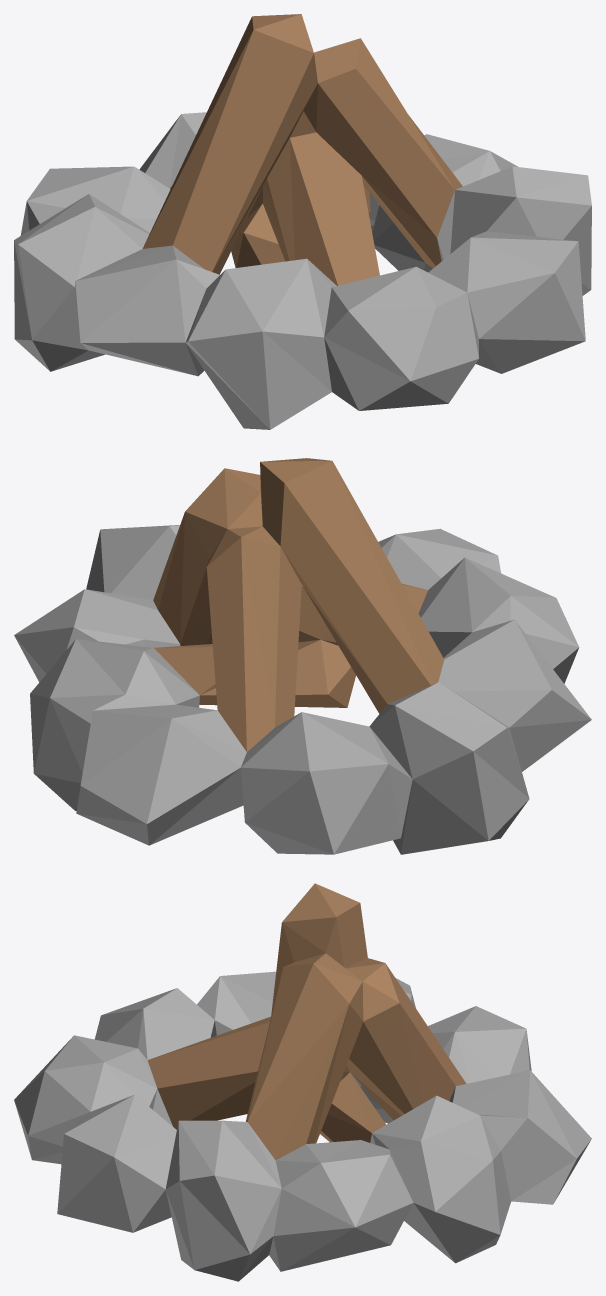
File: Campfire(Pickup).fbx
3 views of the same model, one above another, from view 1: azimuth 30°, elevation 25°; view 2: azimuth 150°, elevation 25°; view 3: azimuth 270°, elevation 25° (orthographic). The views are drawn at different scales.
Parts seen in each view (by area): view 1: Campfire; view 2: Campfire; view 3: Campfire.
Boxes of the visible parts, bbox=[...] form: Campfire: bbox=[14, 14, 591, 429]; Campfire: bbox=[14, 458, 591, 854]; Campfire: bbox=[14, 883, 591, 1281].
Bounding box in the file's own units: 46.62 × 28.33 × 49.44.
